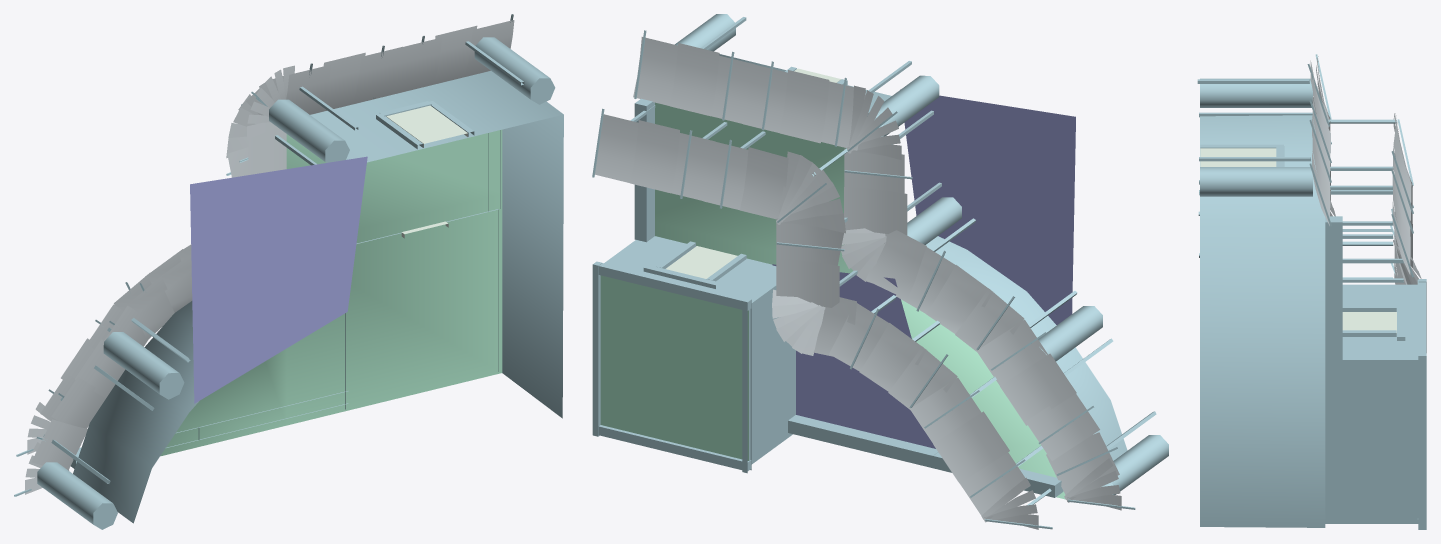
The picture shows the model from 3 angles, left to right: view 1: azimuth 30°, elevation 25°; view 2: azimuth 150°, elevation 25°; view 3: azimuth 270°, elevation 25°; orthographic projection.
Parts seen in each view (by area): view 1: Object30; view 2: Object30; view 3: Object30.
Boxes of the visible parts, x1,y1,x2,y2 form: Object30: (14, 14, 563, 529); Object30: (592, 14, 1168, 529); Object30: (1197, 54, 1426, 529).
Size of the model in its own units: 43930 by 30801 by 17372.
